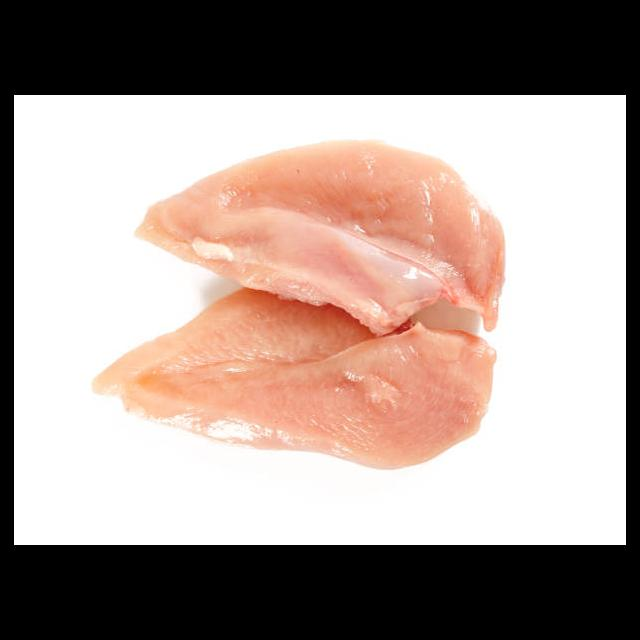chicken: (94, 287, 496, 471), (136, 140, 506, 336)
